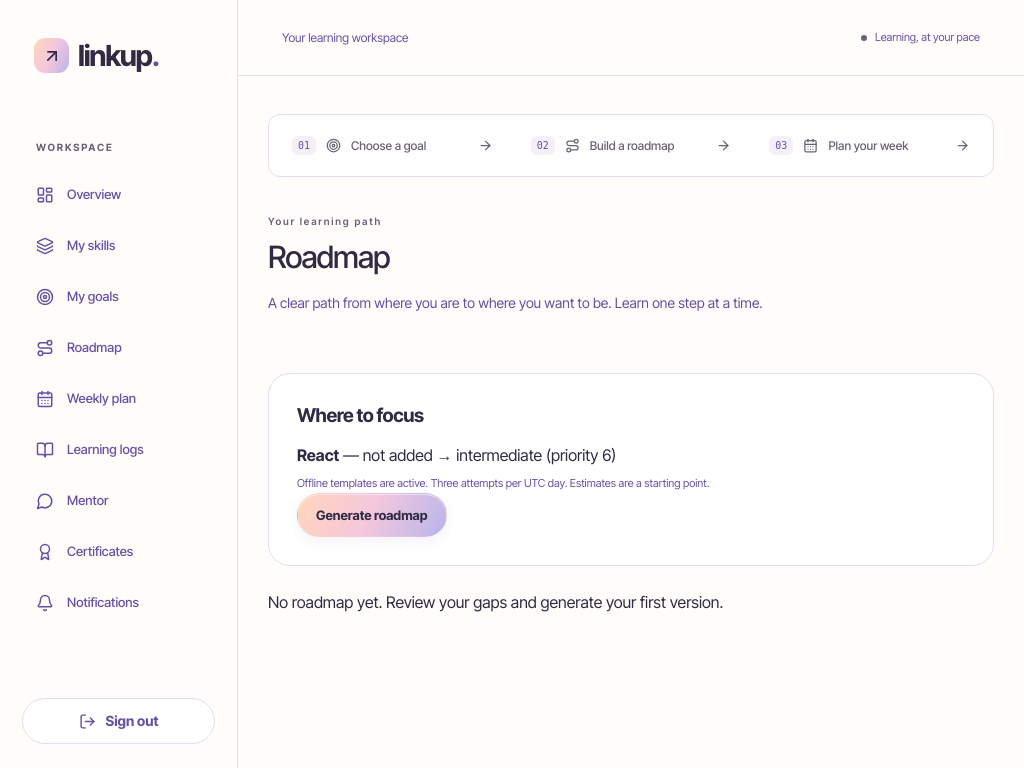
Test case: Roadmap page › announces a saved fallback and refreshes the roadmap after generation
What coordinates should you click on to do the following:
click the button "Generate roadmap"
I would click on:
 (372, 515)
Its box is [297,493,446,537].
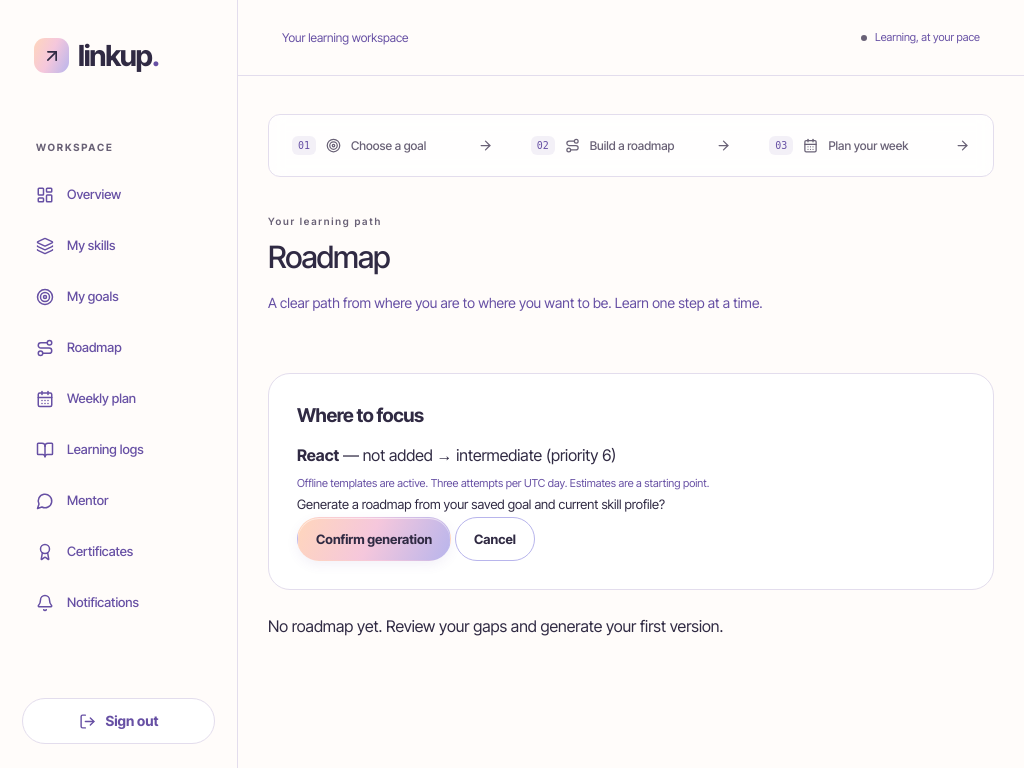
What coordinates should you click on to do the following:
click the button "Confirm generation"
I would click on:
 (374, 539)
Its box is [297,517,451,561].
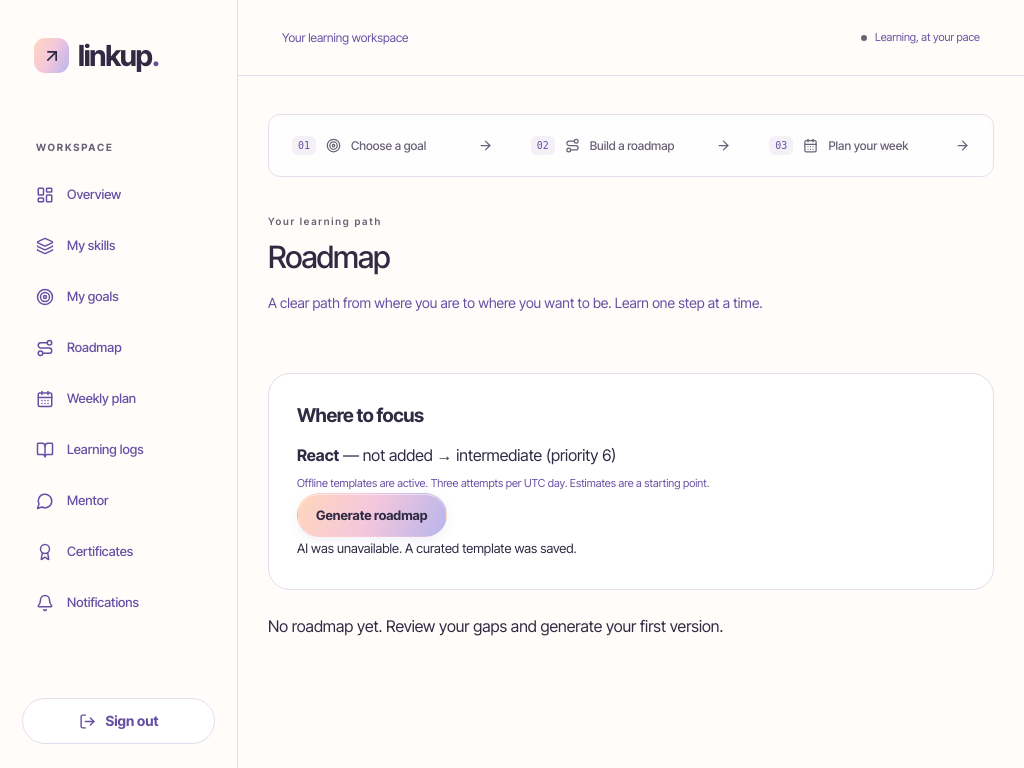
Expected: the message shows "A curated template was saved.", [297,540,577,556]
